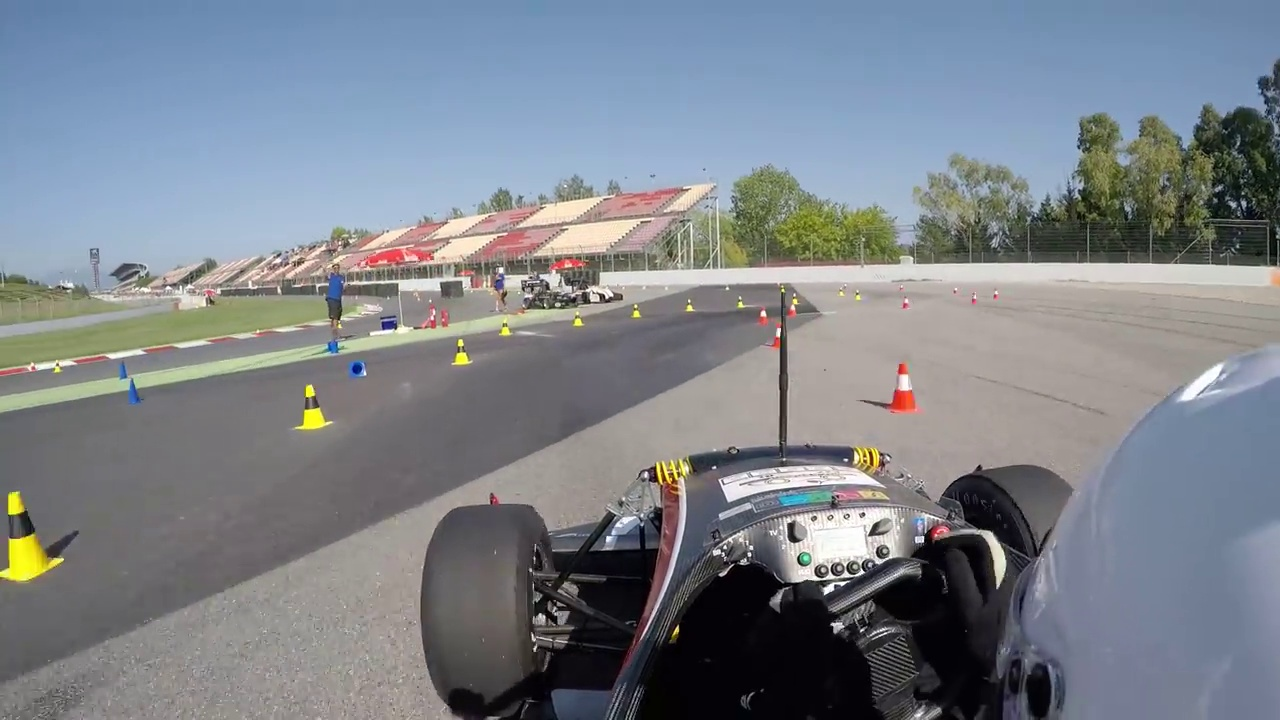Cone: (1, 485, 62, 580), (885, 361, 920, 413), (297, 380, 329, 430), (450, 336, 472, 370)
